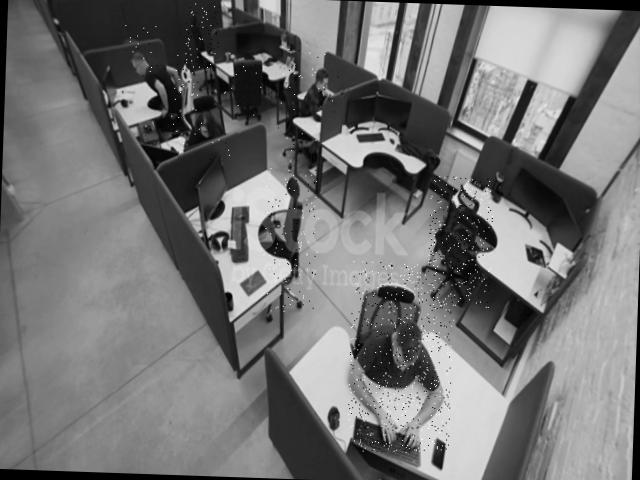empty chair: (427, 176, 494, 308), (262, 168, 321, 313), (220, 52, 262, 119), (170, 54, 200, 132), (184, 4, 220, 68)
occupiedchair: (347, 262, 456, 454), (276, 48, 342, 154), (178, 98, 239, 162)
